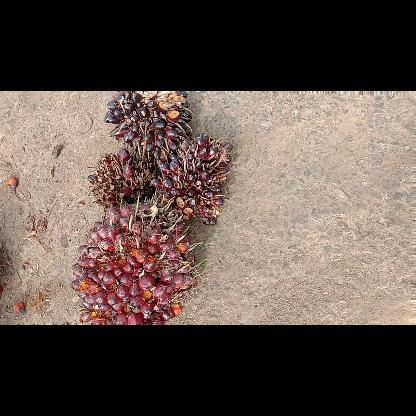TBS abnormal: (154, 132, 232, 224), (105, 91, 191, 157), (86, 148, 154, 206)
TBS masak: (73, 200, 197, 324)
